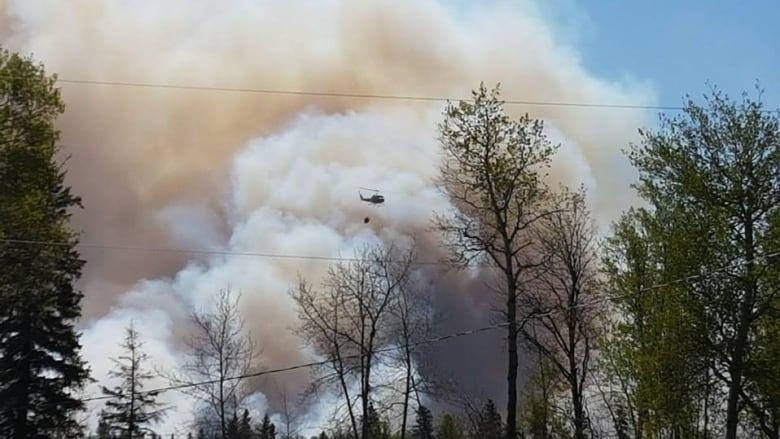smoke: (57, 81, 516, 439), (35, 0, 512, 263)
